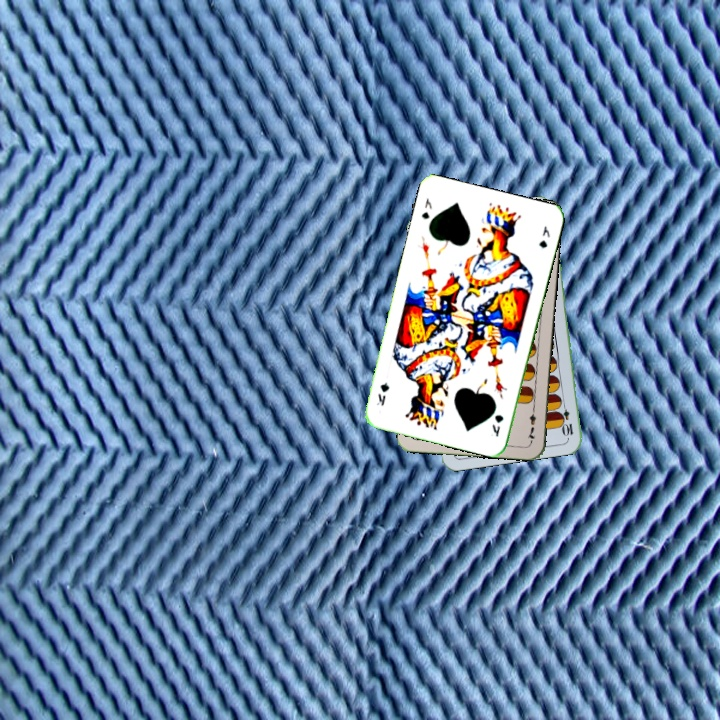E10: (557, 398, 576, 439)
E7: (523, 403, 539, 444)
GK: (488, 411, 506, 439), (417, 194, 435, 222)
